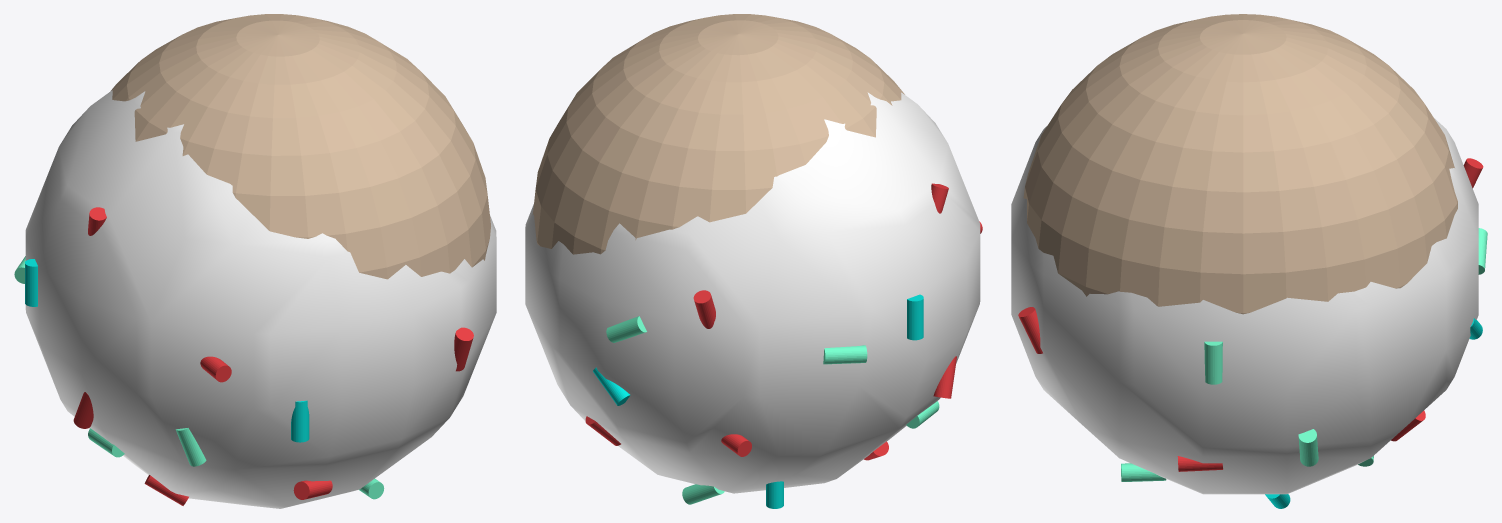
File: Enemy2.fbx
3 renders of one model, left to right at view 1: azimuth 30°, elevation 25°; view 2: azimuth 150°, elevation 25°; view 3: azimuth 270°, elevation 25°, orthographic. The views are drawn at different scales.
Visible parts, largest first — view 1: Mball, Sphere, Cylinder.022, Cylinder.016, Cylinder.002, Cylinder.001, Cylinder.018, Cylinder.005; view 2: Mball, Sphere, Cylinder.017, Cylinder.018, Cylinder.011, Cylinder, Cylinder.010; view 3: Sphere, Mball, Cylinder.013, Cylinder.012, Cylinder.002, Cylinder.014.
Boxes of the visible parts, left/top/right/bottom form: Mball: left=25, top=90, right=496, bottom=508; Sphere: left=111, top=14, right=490, bottom=279; Cylinder.022: left=291, top=400, right=309, bottom=442; Cylinder.016: left=175, top=428, right=206, bottom=466; Cylinder.002: left=454, top=327, right=473, bottom=371; Cylinder.001: left=293, top=480, right=332, bottom=499; Cylinder.018: left=25, top=259, right=37, bottom=306; Cylinder.005: left=200, top=356, right=231, bottom=382; Mball: left=525, top=92, right=980, bottom=493; Sphere: left=532, top=14, right=904, bottom=254; Cylinder.017: left=823, top=345, right=867, bottom=364; Cylinder.018: left=907, top=294, right=923, bottom=340; Cylinder.011: left=606, top=316, right=646, bottom=342; Cylinder: left=693, top=290, right=715, bottom=328; Cylinder.010: left=682, top=484, right=724, bottom=504; Sphere: left=1023, top=14, right=1457, bottom=314; Mball: left=1011, top=118, right=1478, bottom=494; Cylinder.013: left=1204, top=341, right=1222, bottom=384; Cylinder.012: left=1298, top=429, right=1318, bottom=466; Cylinder.002: left=1018, top=307, right=1042, bottom=353; Cylinder.014: left=1121, top=463, right=1166, bottom=481.
Bounding box in the file's own units: 258 × 269 × 257.
